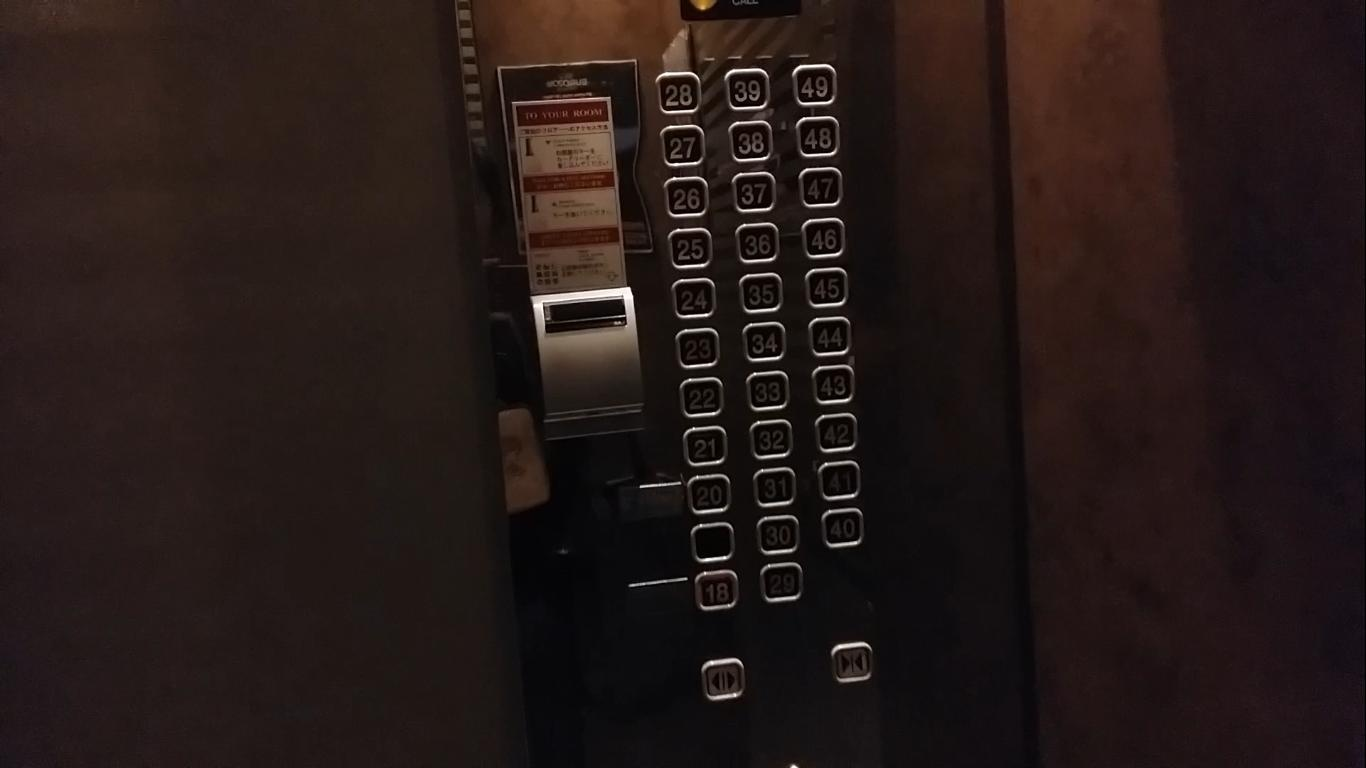18: (695, 568, 740, 613)
20: (687, 473, 732, 518)
21: (684, 425, 728, 466)
22: (678, 377, 723, 419)
23: (675, 327, 720, 368)
24: (671, 278, 717, 317)
25: (667, 226, 716, 269)
26: (663, 176, 712, 219)
27: (660, 124, 705, 166)
28: (655, 72, 702, 112)
29: (760, 563, 804, 603)
30: (757, 516, 798, 554)
31: (753, 466, 798, 510)
32: (748, 419, 791, 459)
33: (745, 370, 791, 410)
34: (741, 321, 785, 362)
35: (738, 272, 784, 314)
36: (734, 222, 779, 263)
37: (731, 171, 775, 212)
38: (728, 120, 771, 161)
39: (724, 68, 771, 110)
40: (821, 508, 864, 547)
41: (817, 460, 862, 500)
42: (814, 412, 858, 453)
43: (813, 364, 853, 406)
44: (807, 315, 849, 356)
45: (805, 267, 849, 307)
46: (800, 217, 846, 259)
47: (798, 167, 843, 207)
48: (794, 116, 840, 158)
49: (792, 64, 837, 106)
close: (831, 641, 875, 685)
empty: (690, 521, 736, 564)
open: (700, 656, 746, 703)
